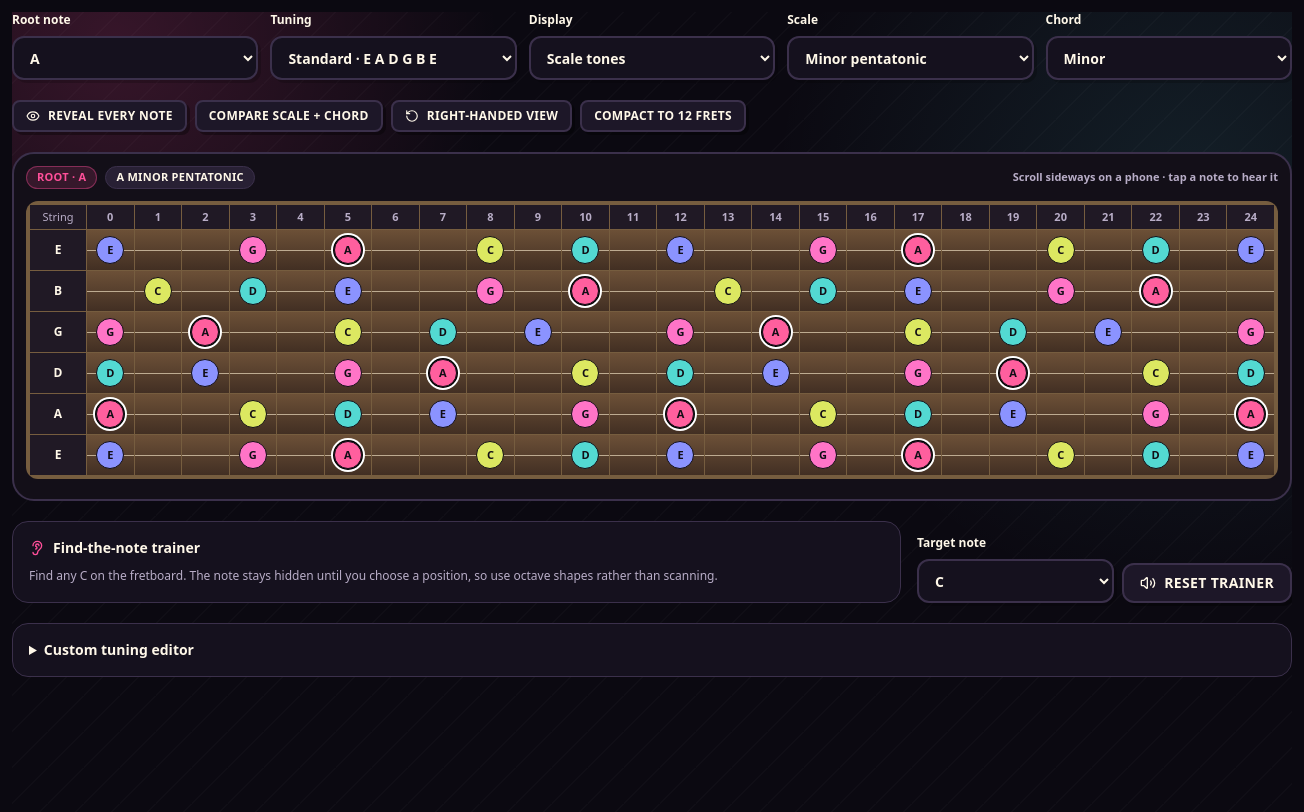
Test: FretboardExplorer › renders a complete 24-fret board and supports alternate tunings
Expected: the element named "24-fret interactive guitar fretboard" is shown, [26,200,1278,487]
Select "Drop D · D A D G B E" in the dropdown labelled "Tuning" at (394, 58), box [270,36,517,80]
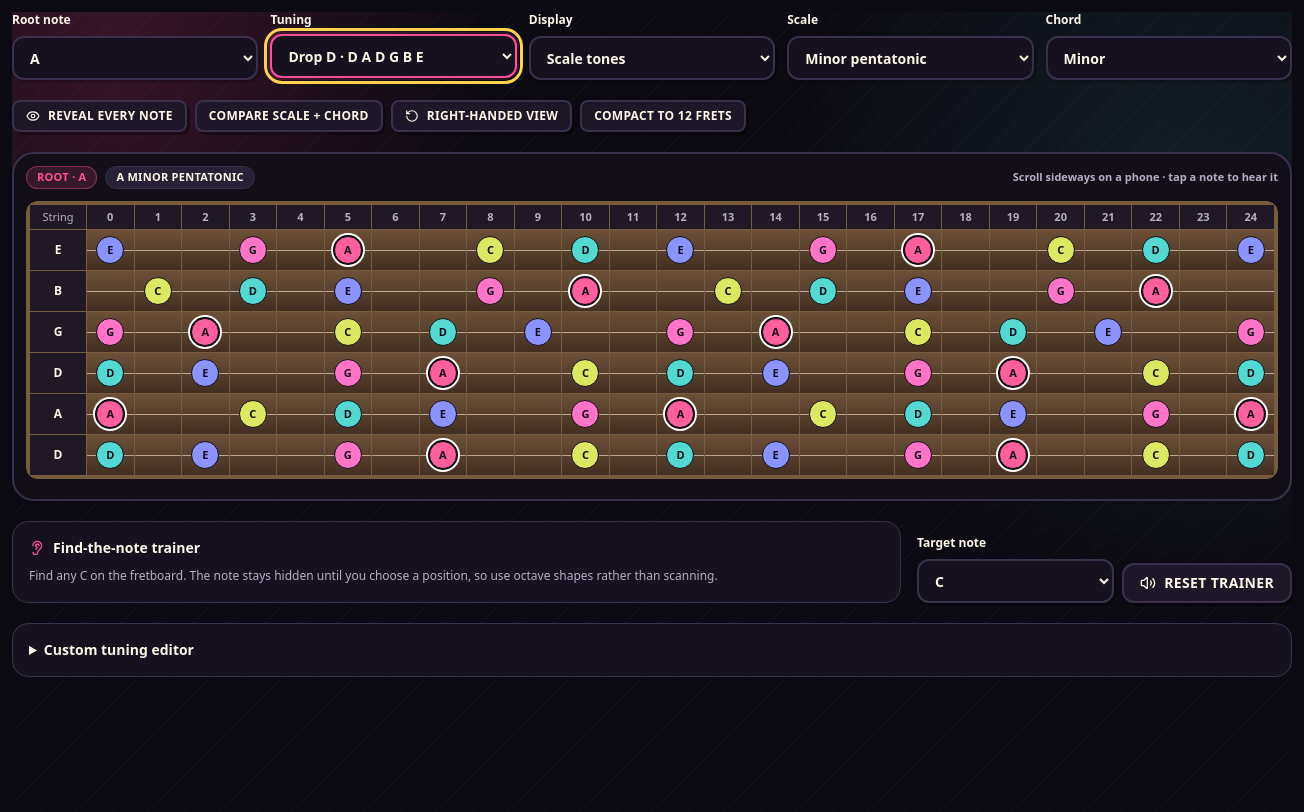
Expected: the cell named "D2, string 6, fret 0" is shown, [87,435,134,475]
